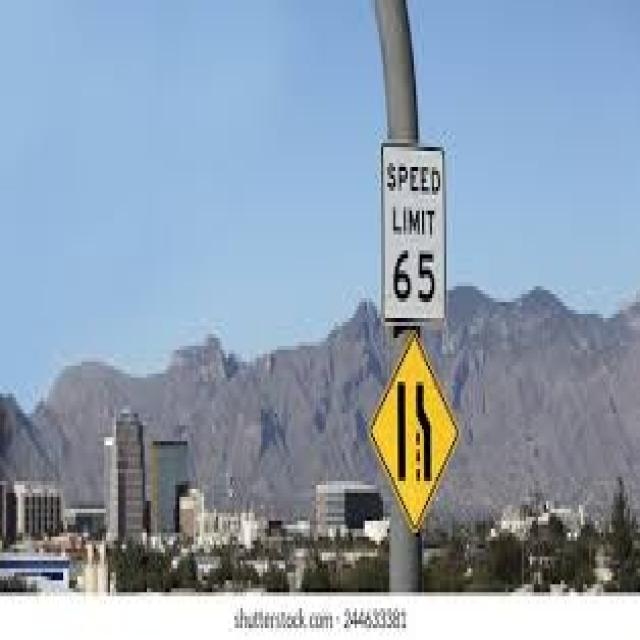speedLimit65: (379, 139, 451, 322)
